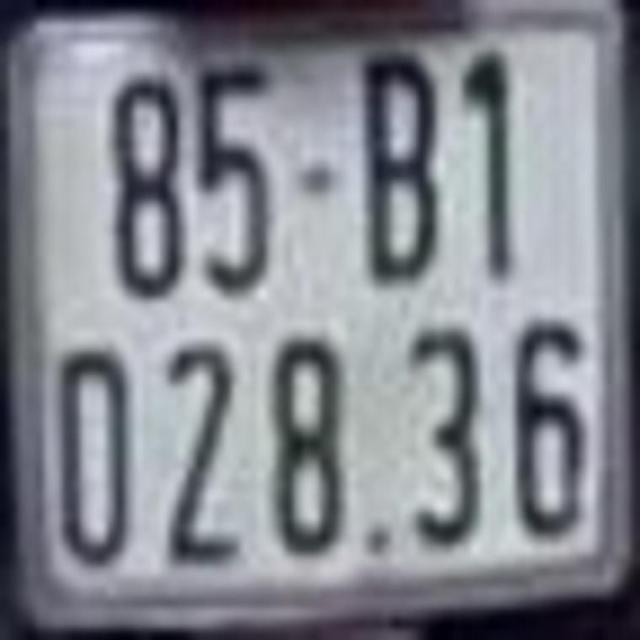0: (62, 343, 126, 571)
1: (460, 45, 512, 272)
2: (168, 331, 242, 568)
3: (407, 318, 481, 542)
5: (195, 64, 272, 291)
6: (512, 316, 589, 532)
8: (114, 74, 184, 296), (277, 333, 343, 554)
B: (366, 49, 446, 273)
